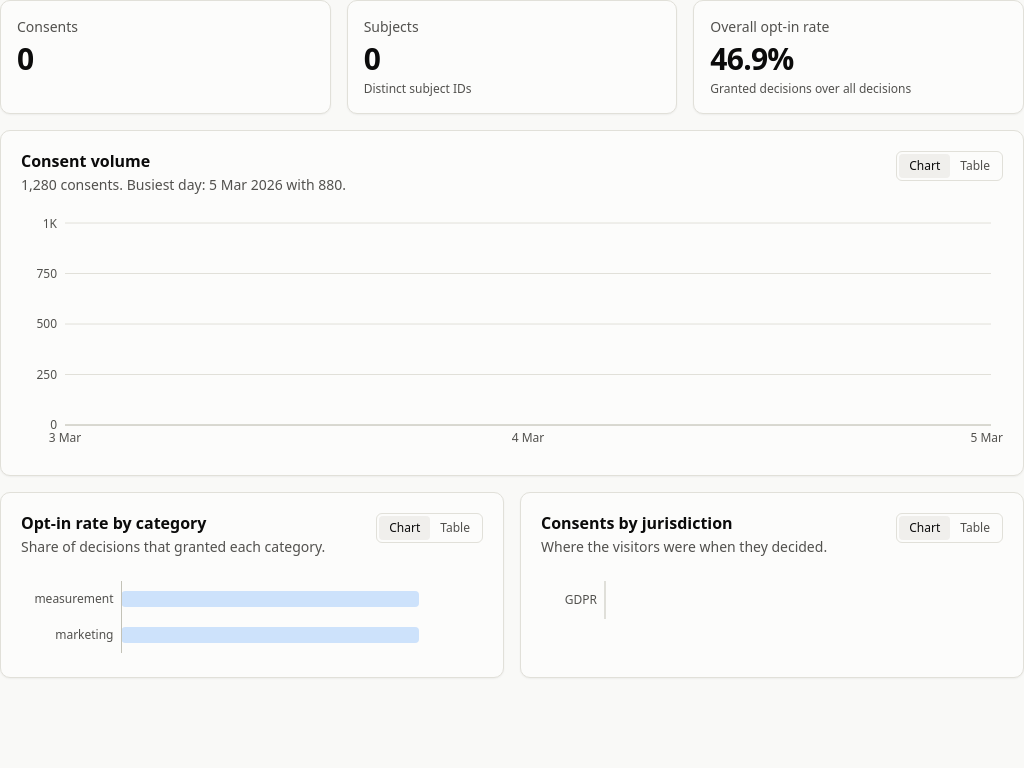
StatsCharts › a total of zero never divides by zero
This screenshot has width=1024, height=768.
Click the button "table" in the row of "Consents by jurisdiction".
click(975, 528)  # box 950,516 -> 1000,540
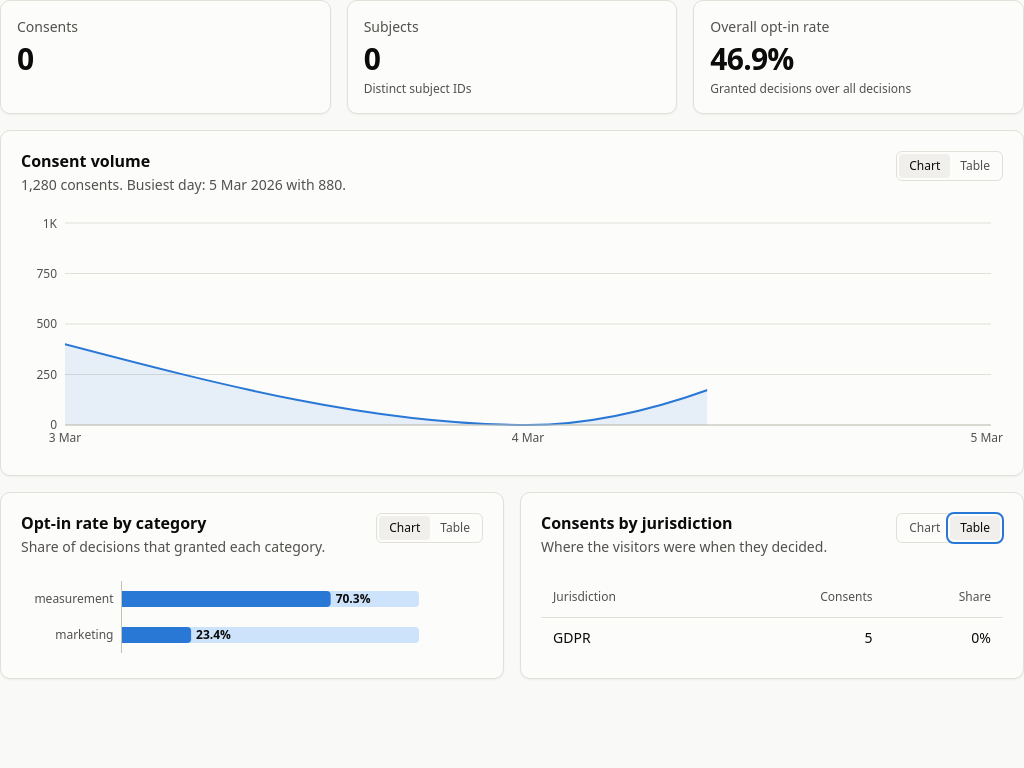
Expected: the text "GDPR" does not show "NaN", 541,618 -> 1003,658
Expected: the text "GDPR" shows "0%", 971,628 -> 991,646
